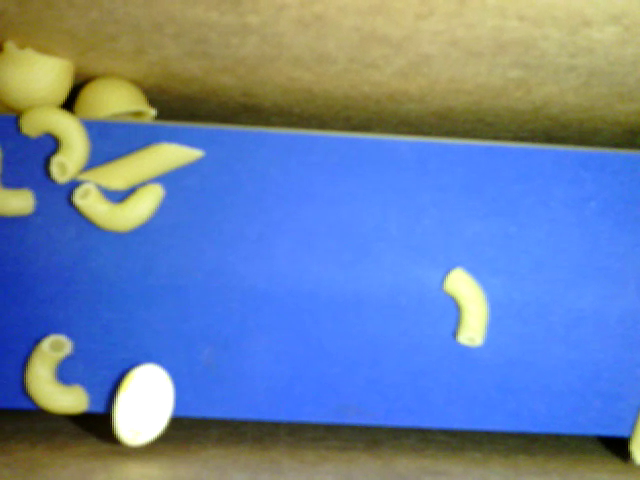elbow: (20, 328, 86, 412), (20, 103, 91, 181), (74, 177, 162, 232), (438, 262, 491, 348), (1, 142, 38, 215)
penne: (77, 139, 204, 189)
shell: (1, 38, 79, 117), (75, 75, 156, 122)
